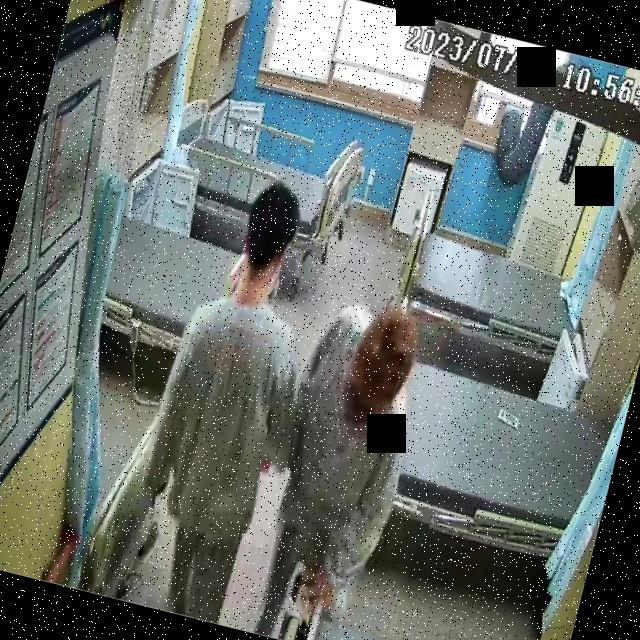bed: (336, 350, 621, 562), (72, 174, 291, 373), (158, 94, 372, 246), (389, 224, 592, 362)
patient: (110, 166, 342, 628), (236, 285, 434, 640)
stand: (110, 167, 340, 628), (236, 285, 435, 640)
